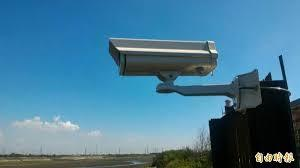Monitor: (104, 13, 271, 119)
